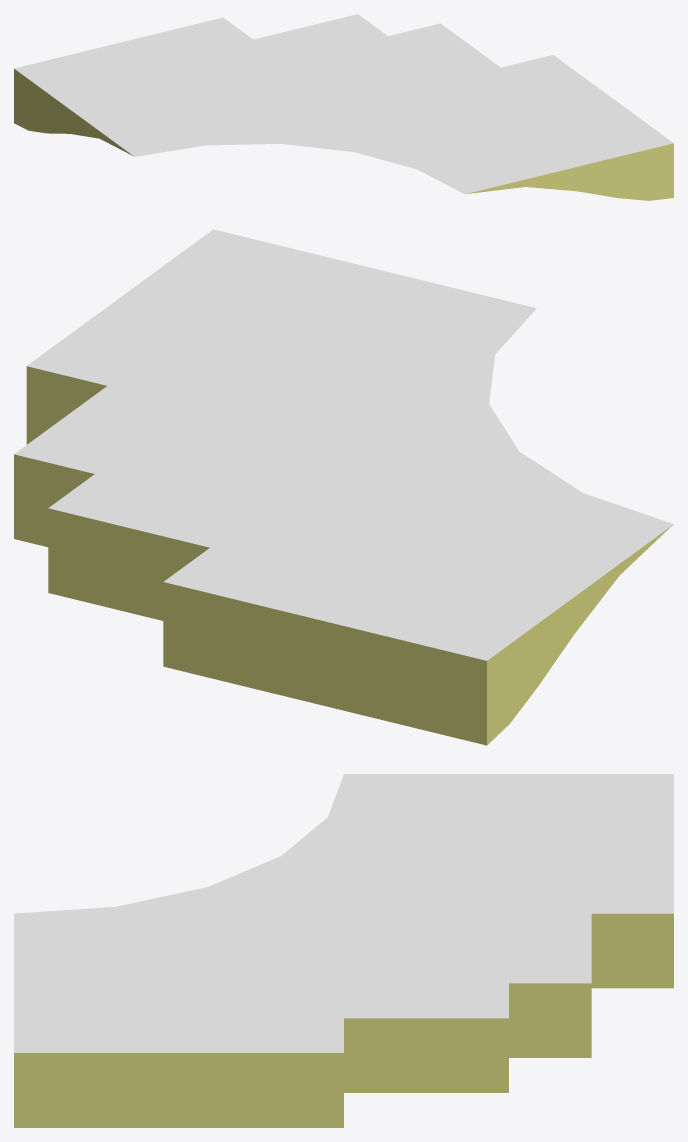
The model's file is Ceiling_Curve_Inner_8x8.glb.
The picture shows the model from 3 angles, top to bottom: view 1: azimuth 30°, elevation 25°; view 2: azimuth 150°, elevation 25°; view 3: azimuth 270°, elevation 25°; orthographic projection. The views are drawn at different scales.
Parts seen in each view (by area): view 1: Ceiling_Curve_Inner_8x8; view 2: Ceiling_Curve_Inner_8x8; view 3: Ceiling_Curve_Inner_8x8.
Part boxes in pixels (<box>): Ceiling_Curve_Inner_8x8: <box>14,14,673,200</box>; Ceiling_Curve_Inner_8x8: <box>14,229,673,745</box>; Ceiling_Curve_Inner_8x8: <box>14,774,673,1127</box>.
Size of the model in its own units: 800 by 100 by 800.
